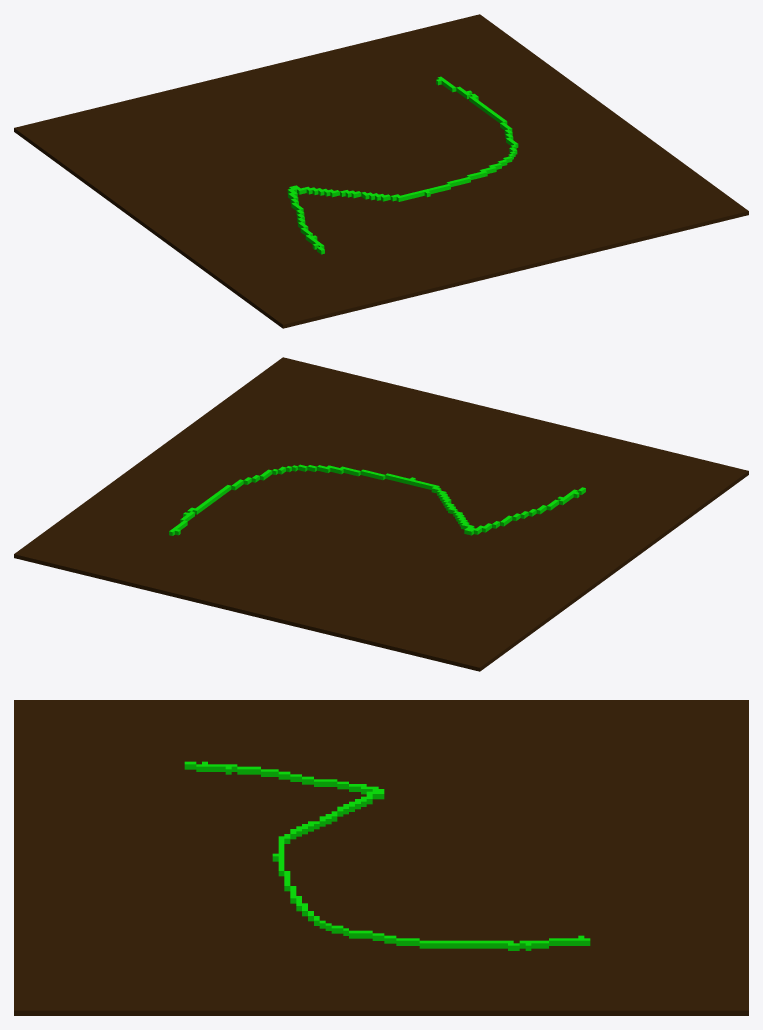
File: Level01-1.obj
3 renders of one model, top to bottom at view 1: azimuth 30°, elevation 25°; view 2: azimuth 150°, elevation 25°; view 3: azimuth 270°, elevation 25°, orthographic. The views are drawn at different scales.
Visible parts, largest first — view 1: Level01-1; view 2: Level01-1; view 3: Level01-1.
Part boxes in pixels (x1,y1,x2,y2): Level01-1: [14, 14, 748, 328]; Level01-1: [14, 357, 748, 671]; Level01-1: [14, 700, 748, 1015].
Size of the model in its own units: 125 by 2 by 125.
Materials: 1 (1 with a texture image).
